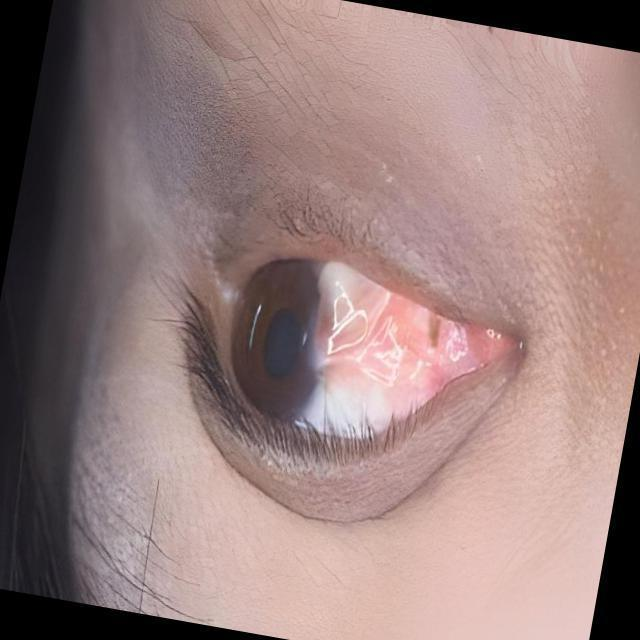Pterygium: (281, 256, 505, 433)
